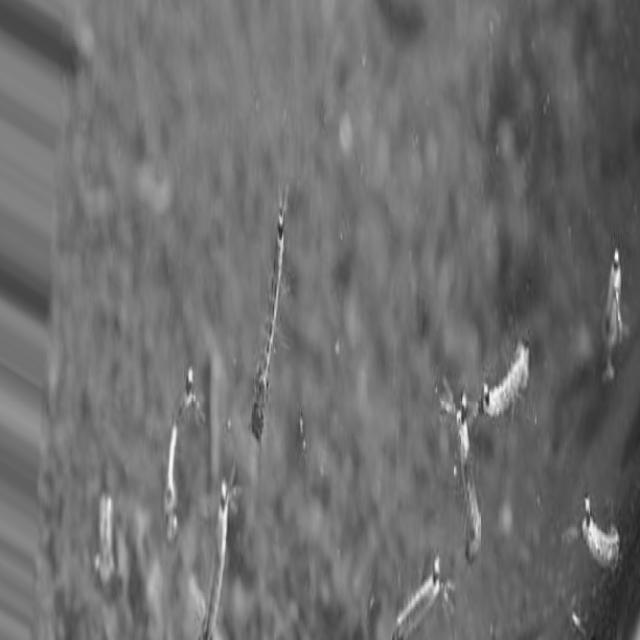larvas: (250, 189, 288, 441), (201, 483, 231, 640), (162, 376, 190, 544), (457, 393, 481, 560), (481, 337, 530, 411), (392, 568, 439, 640), (578, 497, 622, 569), (97, 482, 120, 600), (603, 248, 623, 363)
